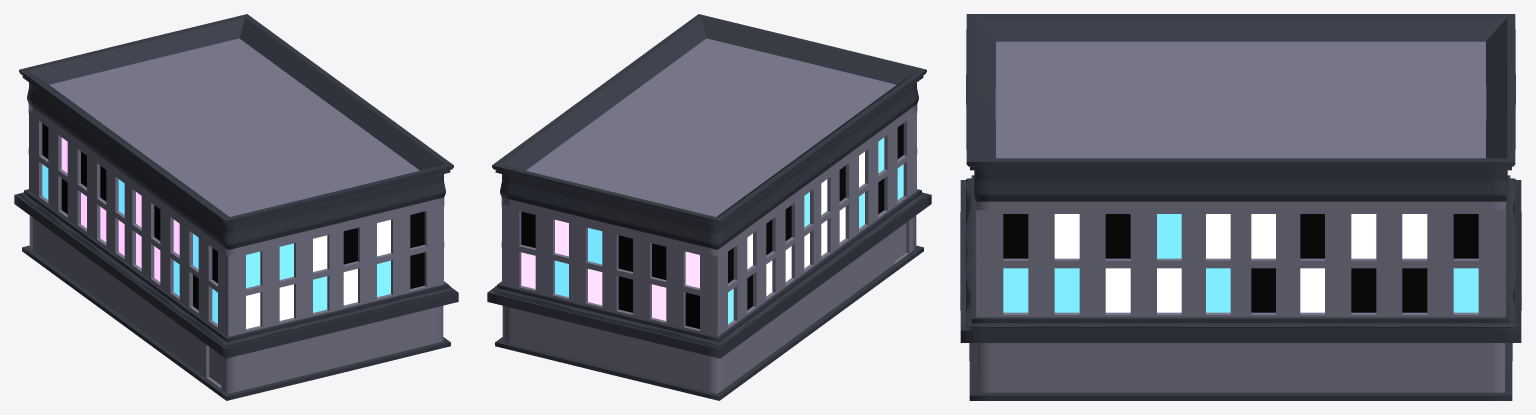
The model's file is Building2 blue and pink.fbx.
3 renders of one model, left to right at view 1: azimuth 30°, elevation 25°; view 2: azimuth 150°, elevation 25°; view 3: azimuth 270°, elevation 25°, orthographic. The views are drawn at different scales.
Parts seen in each view (by area): view 1: Object001.001; view 2: Object001.001; view 3: Object001.001.
Part boxes in pixels (box(x1,y1,x2,y2)): Object001.001: box(14, 14, 458, 400); Object001.001: box(487, 14, 931, 400); Object001.001: box(960, 14, 1521, 400).
Bounding box in the file's own units: 4189 × 3115 × 6596.
